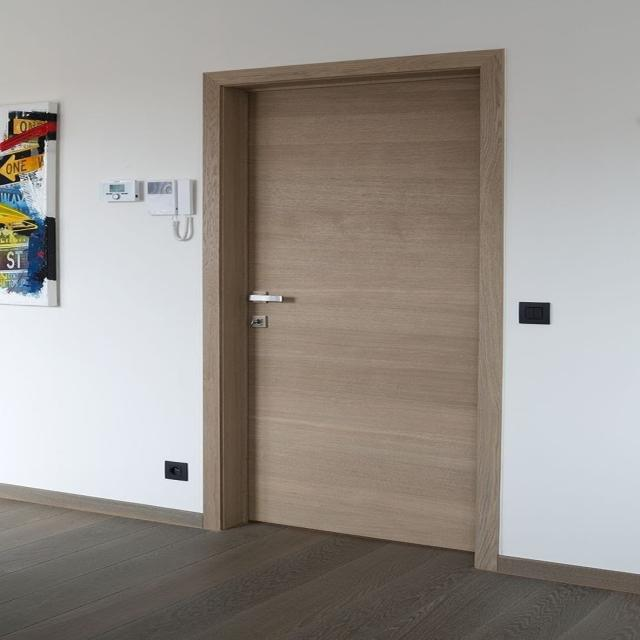door: (202, 49, 503, 555)
